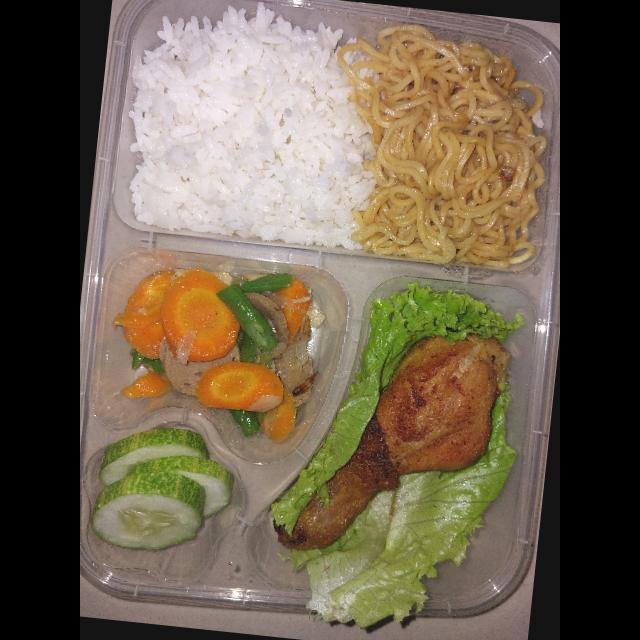bento: (80, 0, 560, 629)
